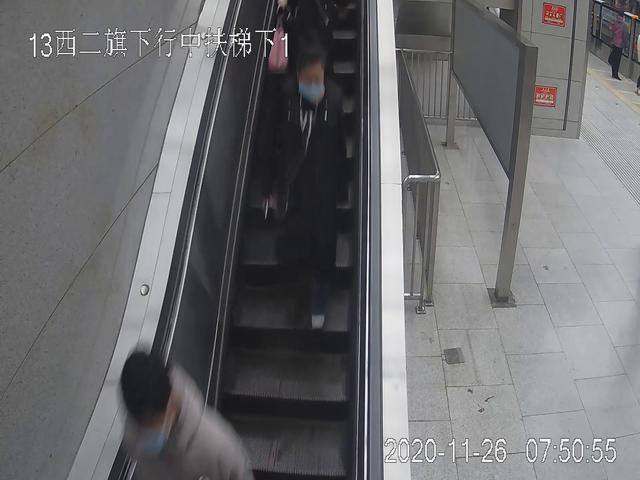person: (260, 49, 341, 331), (607, 12, 629, 82)
